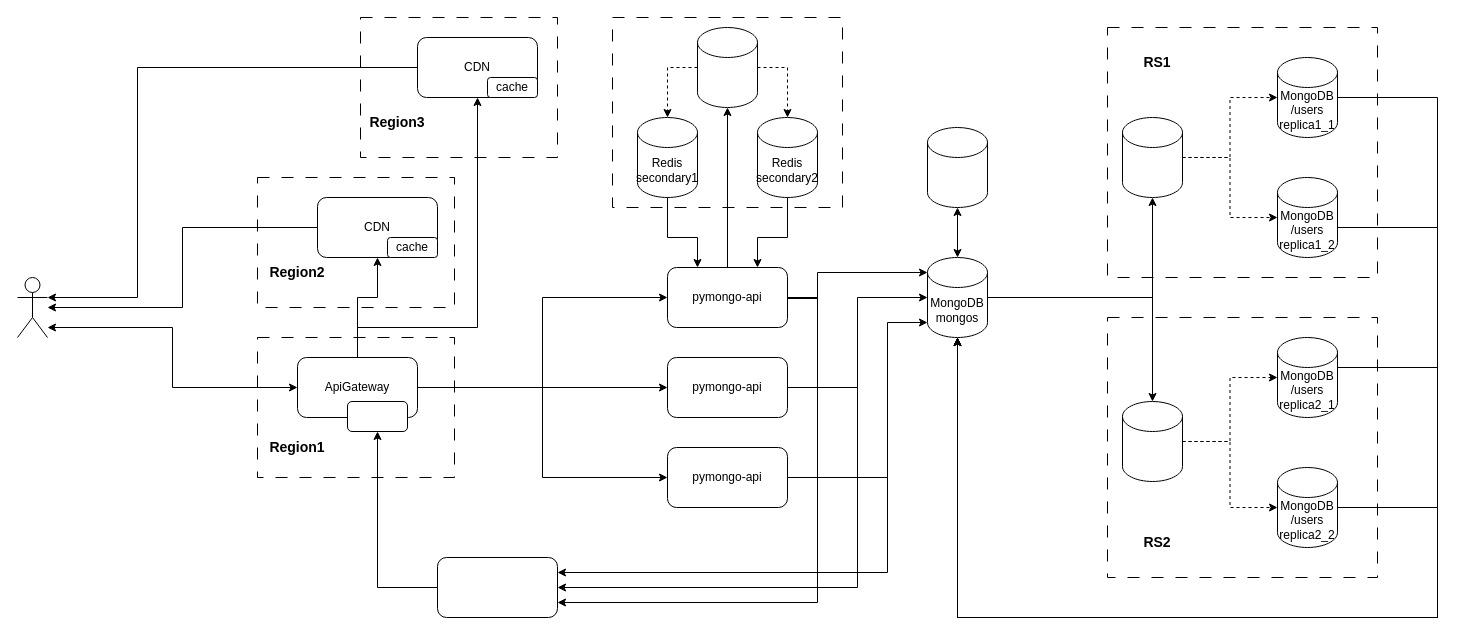
This 1463x643 diagram has some shape labels left out. Each missing label, with the centre of its shape:
Actor: the point at 32,307
Consul client: the point at 377,416
Consul registry: the point at 497,587
MongoDB /users master1: the point at 1152,157
MongoDB /users master2: the point at 1152,441
MongoDB config- server: the point at 957,167
Redis main: the point at 727,67
